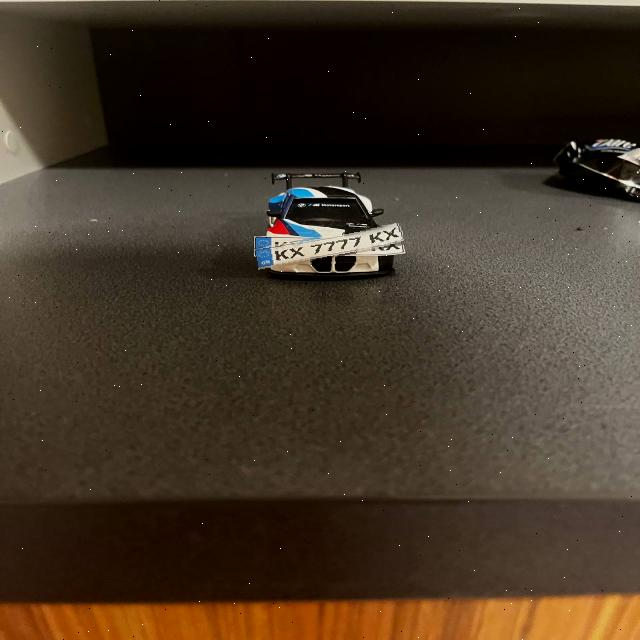KX 7777 KX: (255, 228, 404, 264)
